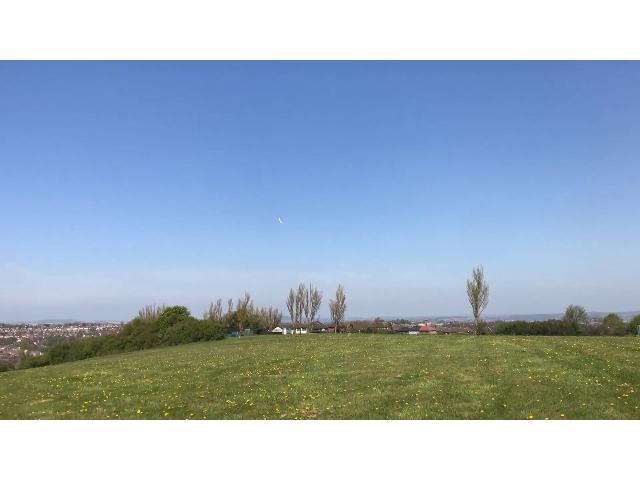Anti-Drone: (270, 208, 294, 226)
